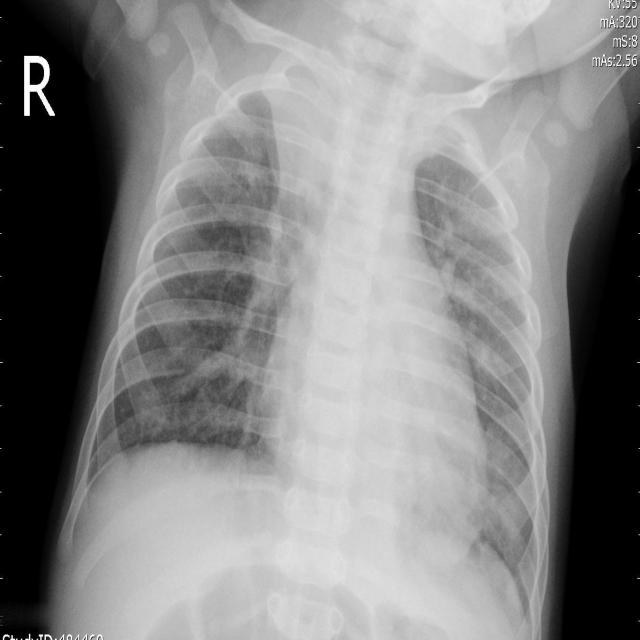low-pneumonia: (206, 217, 279, 381), (437, 181, 493, 356)
